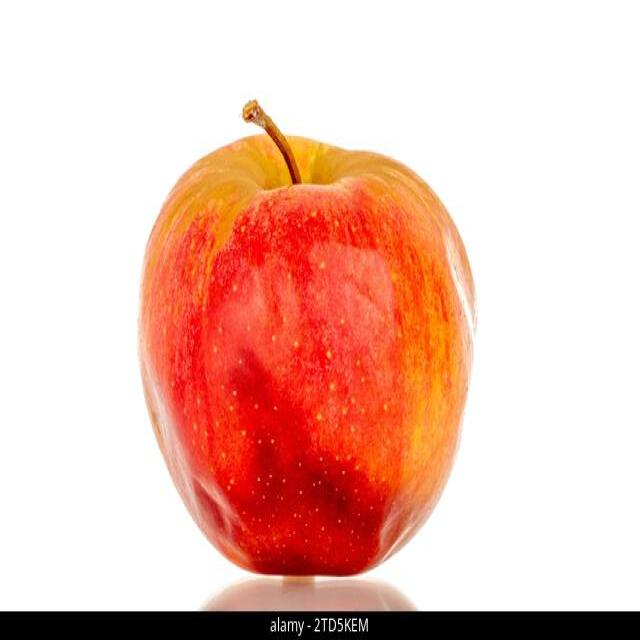overripe: (132, 125, 482, 580)
